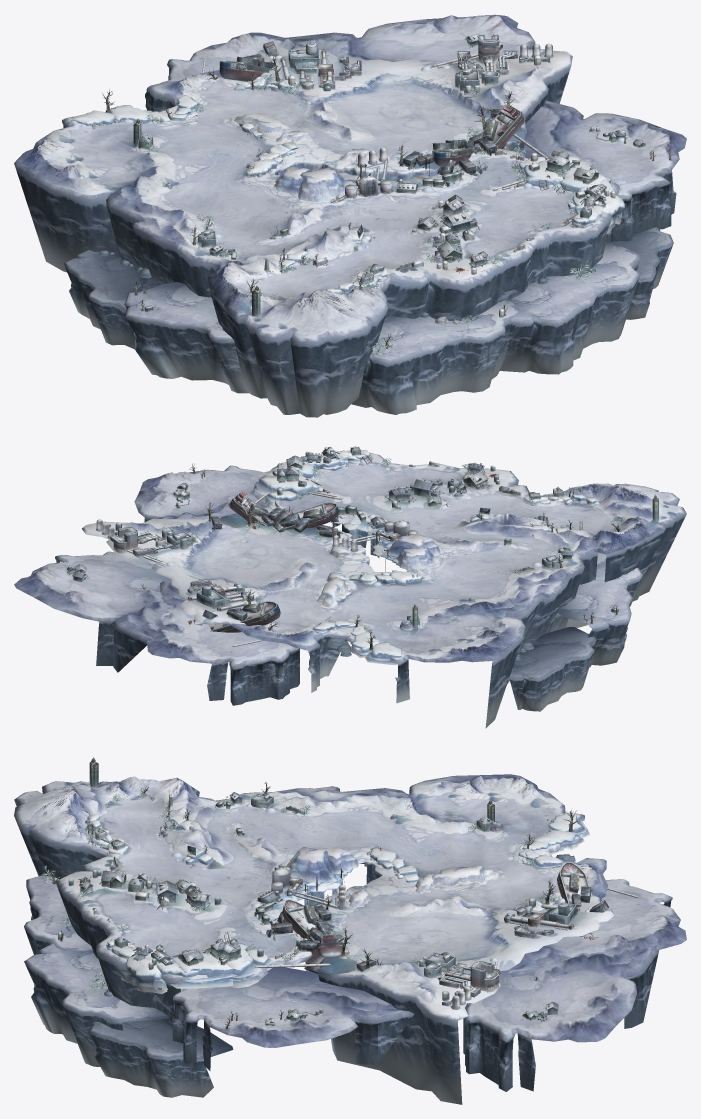
The model's file is fcbg_iceland_001.glb.
3 renders of one model, top to bottom at view 1: azimuth 30°, elevation 25°; view 2: azimuth 150°, elevation 25°; view 3: azimuth 270°, elevation 25°, orthographic. The views are drawn at different scales.
Parts seen in each view (by area): view 1: fcbg_iceland_001_bg_01, fcbg_iceland_001_bg_05, fcbg_iceland_001_bg_04 (2), fcbg_iceland_001_bg_05 (3), fcbg_iceland_001_bg_05 (1), fcbg_iceland_001_bg_04 (1), fcbg_iceland_001_bg_06, fcbg_iceland_001_bg_04, fcbg_iceland_001_bg_06 (1), fcbg_iceland_001_mountain_01, fcbg_iceland_001_house_28 (1), fcbg_iceland_001_ship_01 (1) (+7 smaller); view 2: fcbg_iceland_001_bg_01, fcbg_iceland_001_bg_04 (1), fcbg_iceland_001_bg_04, fcbg_iceland_001_bg_06, fcbg_iceland_001_bg_04 (2), fcbg_iceland_001_bg_05 (1), fcbg_iceland_001_ship_01 (3), fcbg_iceland_001_stone_03 (6), fcbg_iceland_001_mountain_01, fcbg_iceland_001_mountain_01 (1), fcbg_iceland_001_house_19 (1), fcbg_iceland_001_house_28 (1) (+4 smaller); view 3: fcbg_iceland_001_bg_01, fcbg_iceland_001_bg_04 (1), fcbg_iceland_001_bg_04 (2), fcbg_iceland_001_bg_05 (3), fcbg_iceland_001_bg_06 (1), fcbg_iceland_001_bg_04, fcbg_iceland_001_bg_05, fcbg_iceland_001_stone_03 (3), fcbg_iceland_001_mountain_01, fcbg_iceland_001_mountain_02, fcbg_iceland_001_stone_03 (4), fcbg_iceland_001_house_19 (1) (+9 smaller).
Boxes of the visible parts, x1=… form: fcbg_iceland_001_bg_01: x1=14, y1=47, x2=619, y2=417; fcbg_iceland_001_bg_05: x1=351, y1=299, x2=521, y2=414; fcbg_iceland_001_bg_04 (2): x1=515, y1=100, x2=686, y2=241; fcbg_iceland_001_bg_05 (3): x1=500, y1=240, x2=640, y2=374; fcbg_iceland_001_bg_05 (1): x1=124, y1=282, x2=249, y2=393; fcbg_iceland_001_bg_04 (1): x1=283, y1=14, x2=545, y2=63; fcbg_iceland_001_bg_06: x1=64, y1=250, x2=161, y2=349; fcbg_iceland_001_bg_04: x1=160, y1=32, x2=337, y2=83; fcbg_iceland_001_bg_06 (1): x1=609, y1=227, x2=673, y2=319; fcbg_iceland_001_mountain_01: x1=298, y1=167, x2=348, y2=202; fcbg_iceland_001_house_28 (1): x1=288, y1=42, x2=319, y2=89; fcbg_iceland_001_ship_01 (1): x1=481, y1=104, x2=525, y2=150; fcbg_iceland_001_bg_01: x1=82, y1=452, x2=686, y2=728; fcbg_iceland_001_bg_04 (1): x1=14, y1=551, x2=173, y2=672; fcbg_iceland_001_bg_04: x1=146, y1=581, x2=299, y2=705; fcbg_iceland_001_bg_06: x1=509, y1=627, x2=596, y2=711; fcbg_iceland_001_bg_04 (2): x1=134, y1=465, x2=268, y2=521; fcbg_iceland_001_bg_05 (1): x1=557, y1=552, x2=642, y2=667; fcbg_iceland_001_ship_01 (3): x1=187, y1=601, x2=280, y2=632; fcbg_iceland_001_stone_03 (6): x1=253, y1=475, x2=319, y2=501; fcbg_iceland_001_mountain_01: x1=384, y1=533, x2=440, y2=556; fcbg_iceland_001_mountain_01 (1): x1=396, y1=547, x2=435, y2=569; fcbg_iceland_001_house_19 (1): x1=113, y1=526, x2=158, y2=553; fcbg_iceland_001_house_28 (1): x1=196, y1=585, x2=249, y2=609; fcbg_iceland_001_bg_01: x1=14, y1=774, x2=614, y2=1104; fcbg_iceland_001_bg_04 (1): x1=463, y1=944, x2=659, y2=1091; fcbg_iceland_001_bg_04 (2): x1=172, y1=967, x2=414, y2=1070; fcbg_iceland_001_bg_05 (3): x1=24, y1=943, x2=169, y2=1066; fcbg_iceland_001_bg_06 (1): x1=90, y1=1019, x2=233, y2=1097; fcbg_iceland_001_bg_04: x1=509, y1=879, x2=686, y2=977; fcbg_iceland_001_bg_05: x1=24, y1=875, x2=93, y2=954; fcbg_iceland_001_stone_03 (3): x1=170, y1=950, x2=236, y2=988; fcbg_iceland_001_mountain_01: x1=286, y1=847, x2=336, y2=882; fcbg_iceland_001_mountain_02: x1=432, y1=866, x2=495, y2=888; fcbg_iceland_001_stone_03 (4): x1=120, y1=954, x2=167, y2=994; fcbg_iceland_001_house_19 (1): x1=438, y1=961, x2=498, y2=992.
Bounding box in the file's own units: 104 × 24.18 × 108.
Materials: 6 (6 with a texture image).
